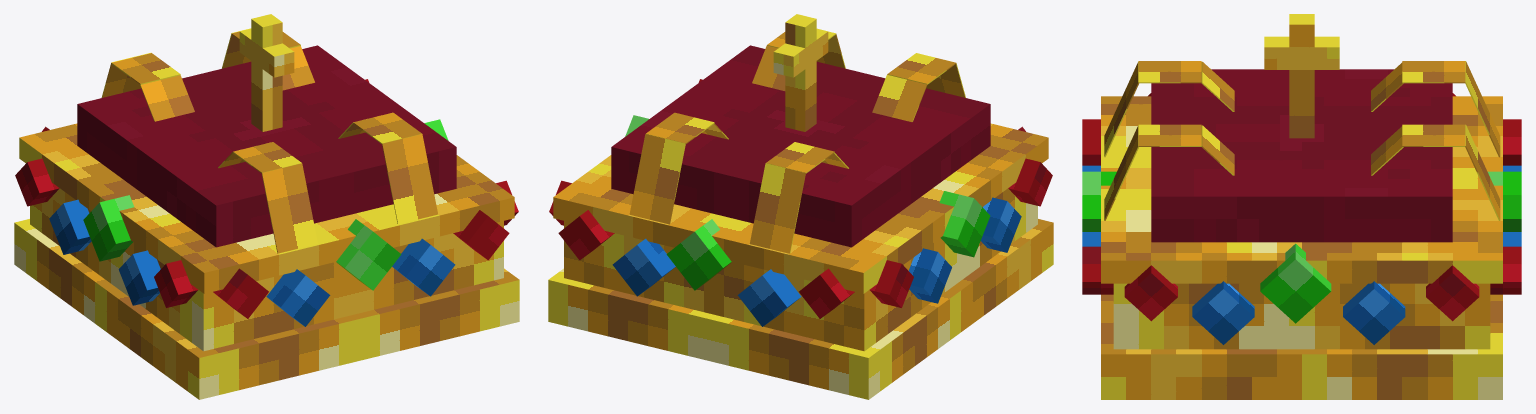
3 views of the same model, side by side, from view 1: azimuth 30°, elevation 25°; view 2: azimuth 150°, elevation 25°; view 3: azimuth 270°, elevation 25° (orthographic). The views are drawn at different scales.
Visible parts, largest first — view 1: cube (×30); view 2: cube (×30); view 3: cube (×32).
Boxes of the visible parts, box(x1,y1,x2,y2) form: cube (×30): box(14, 14, 519, 399); cube (×30): box(548, 14, 1053, 399); cube (×32): box(1082, 19, 1521, 399).
Size of the model in its own units: 1.06 by 0.8125 by 1.09.
Materials: 3 (3 with a texture image).
